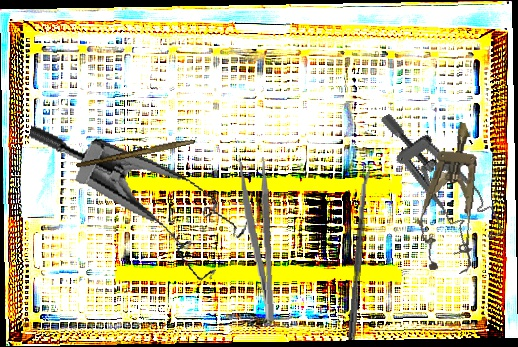Dressing Forceps: (237, 157, 279, 323)
Scalpel Handle: (75, 135, 196, 171)
Speculum: (5, 121, 259, 290), (377, 90, 507, 264), (412, 118, 494, 276)
Surgical Spoon: (347, 165, 372, 341)
